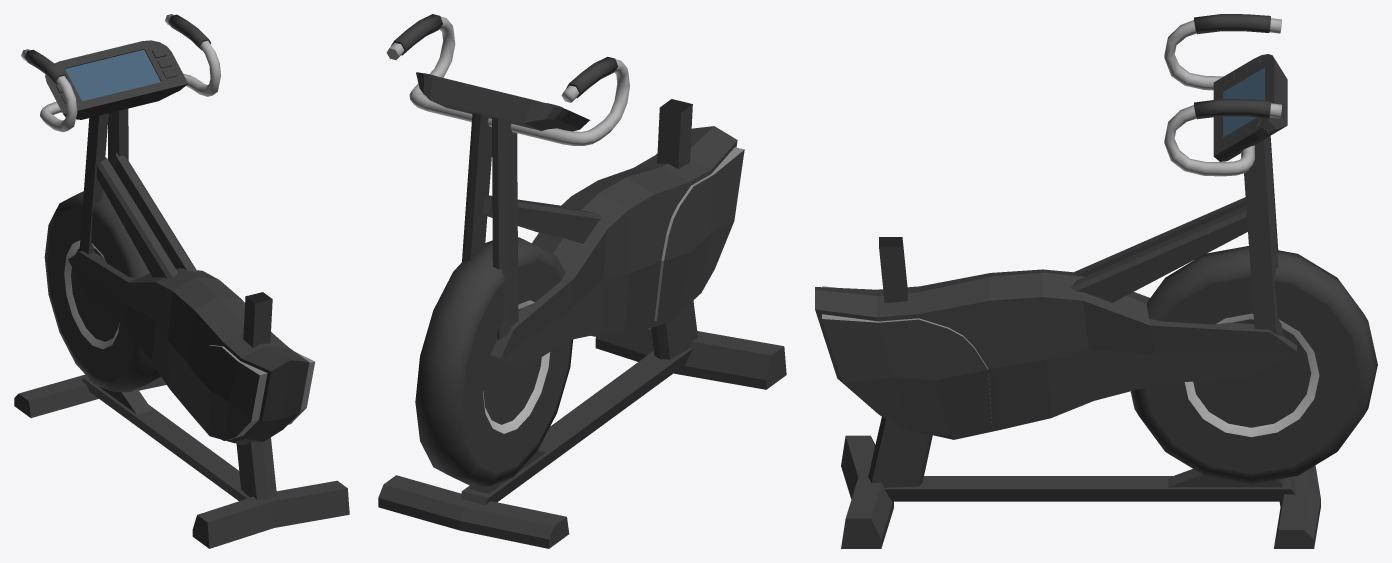
Rendered from Exercise_Bike.fbx.
The picture shows the model from 3 angles, left to right: view 1: azimuth 30°, elevation 25°; view 2: azimuth 150°, elevation 25°; view 3: azimuth 270°, elevation 25°; orthographic projection. The views are drawn at different scales.
Visible parts, largest first — view 1: Exercise_Bike; view 2: Exercise_Bike; view 3: Exercise_Bike.
Boxes of the visible parts, left/top/right/bottom form: Exercise_Bike: left=14, top=14, right=349, bottom=548; Exercise_Bike: left=378, top=14, right=786, bottom=548; Exercise_Bike: left=815, top=14, right=1377, bottom=548.
Bounding box in the file's own units: 61.27 × 139 × 158.
